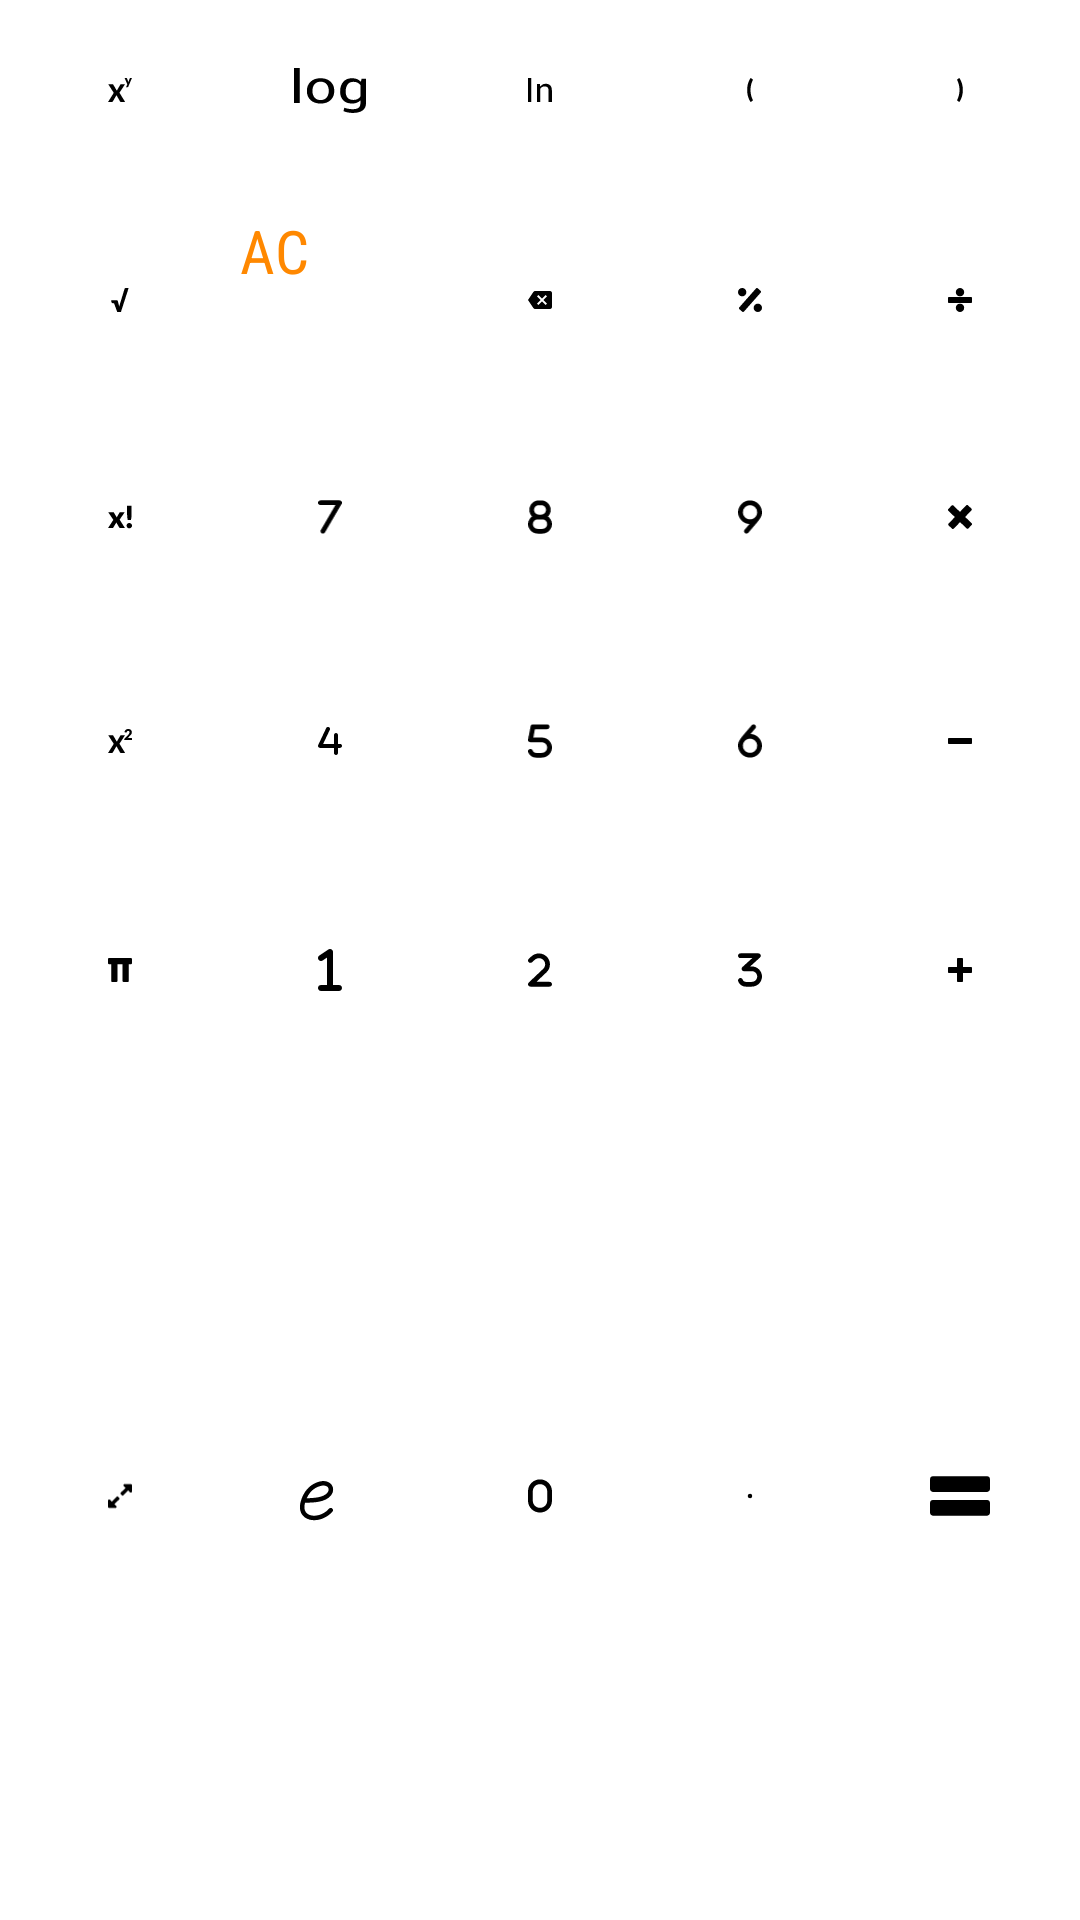

Screen size 1080*1920. Icon name, then its center in pixels as (x=x, y=y):
add: (x=960, y=970)
divide: (x=960, y=300)
equal: (x=960, y=1496)
expand: (x=120, y=1496)
factorial: (x=120, y=517)
left parenthesis: (x=750, y=90)
multiply: (x=960, y=517)
percentage: (x=750, y=300)
power: (x=120, y=90)
right parenthesis: (x=960, y=90)
square root: (x=120, y=300)
squared: (x=120, y=741)
subtract: (x=960, y=741)
